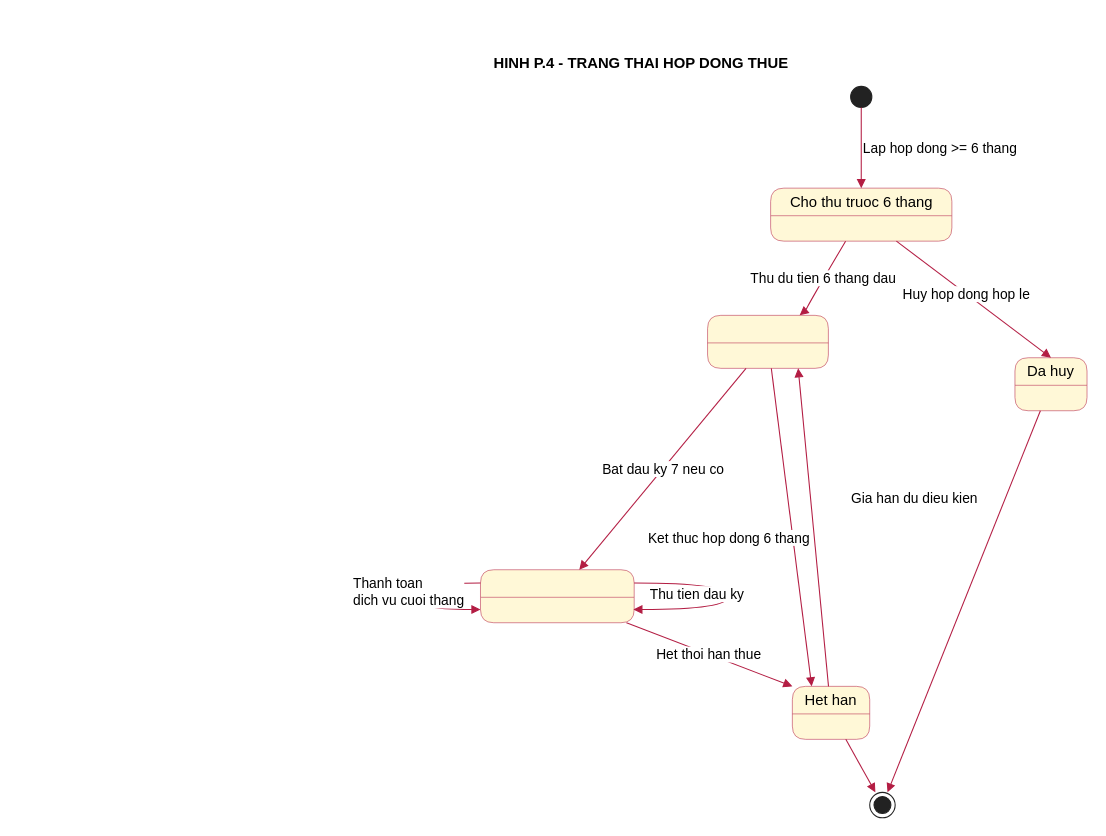
This 1106x836 diagram has some shape labels left out. Here are the shapes that lost their labels. From the top down, the centre of each, then its label:
point 767,341: Dang hieu luc
point 557,596: Thu tien thang 7+
